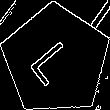L_NE: (28, 32, 84, 88)
